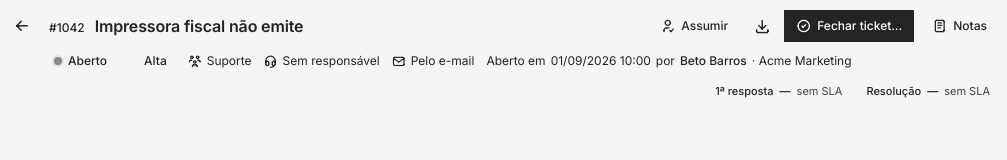
Test case: CabecalhoTicket — exportar a transcrição › erro qualquer vira aviso dizendo que nada foi baixado
The width and height of the screenshot is (1007, 160).
Click the button named "Exportar a conversa em PDF".
click(762, 26)  # box [746,10,778,42]
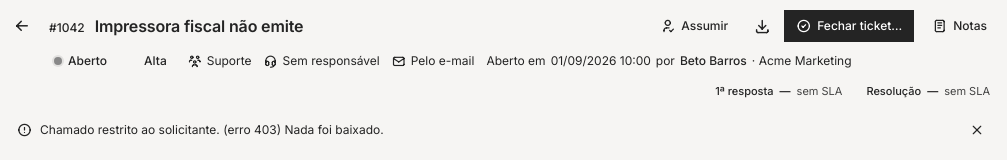
Result: the message shows "Chamado restrito ao solicitante." at [40,122,384,137]
